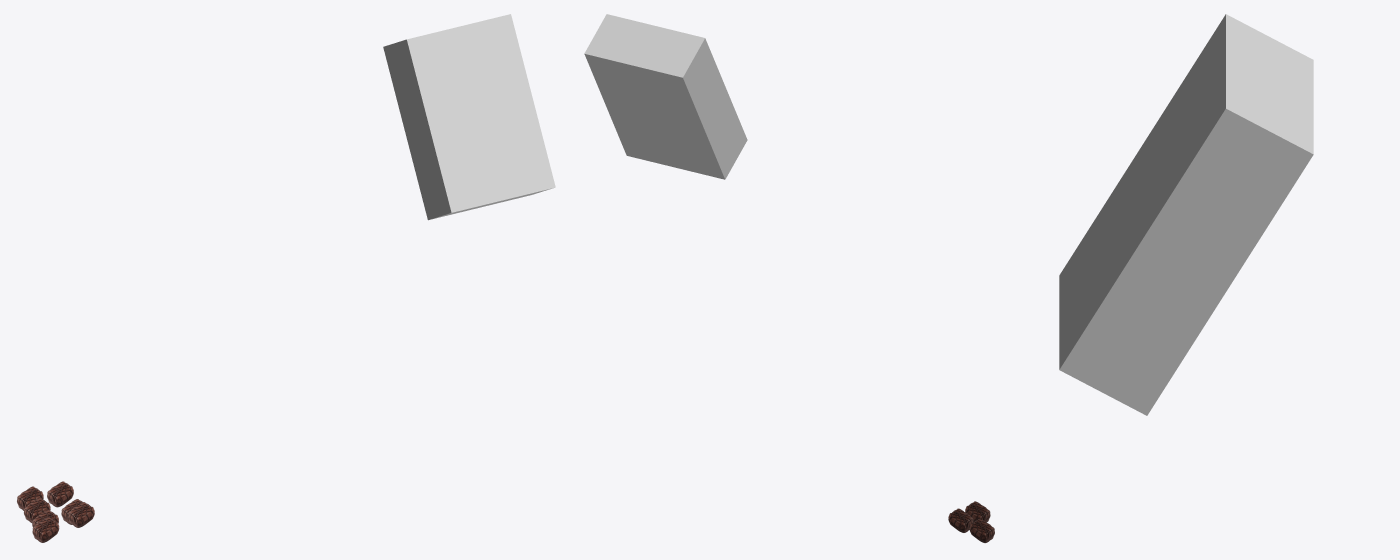
Rendered from ani3.2e8a864c.glb.
3 renders of one model, left to right at view 1: azimuth 30°, elevation 25°; view 2: azimuth 150°, elevation 25°; view 3: azimuth 270°, elevation 25°, orthographic. The views are drawn at different scales.
Parts seen in each view (by area): view 1: Cube.001, Cube; view 2: Cube, Cube.001; view 3: Cube.001, Cube.
Boxes of the visible parts, x1,y1,x2,y2 form: Cube.001: (395, 14, 555, 216); Cube: (383, 43, 541, 220); Cube: (584, 34, 736, 179); Cube.001: (595, 14, 747, 159); Cube.001: (1059, 14, 1269, 392); Cube: (1103, 37, 1313, 415).
Bounding box in the file's own units: 39.24 × 34.78 × 12.87.
2 materials, 1 textured.
